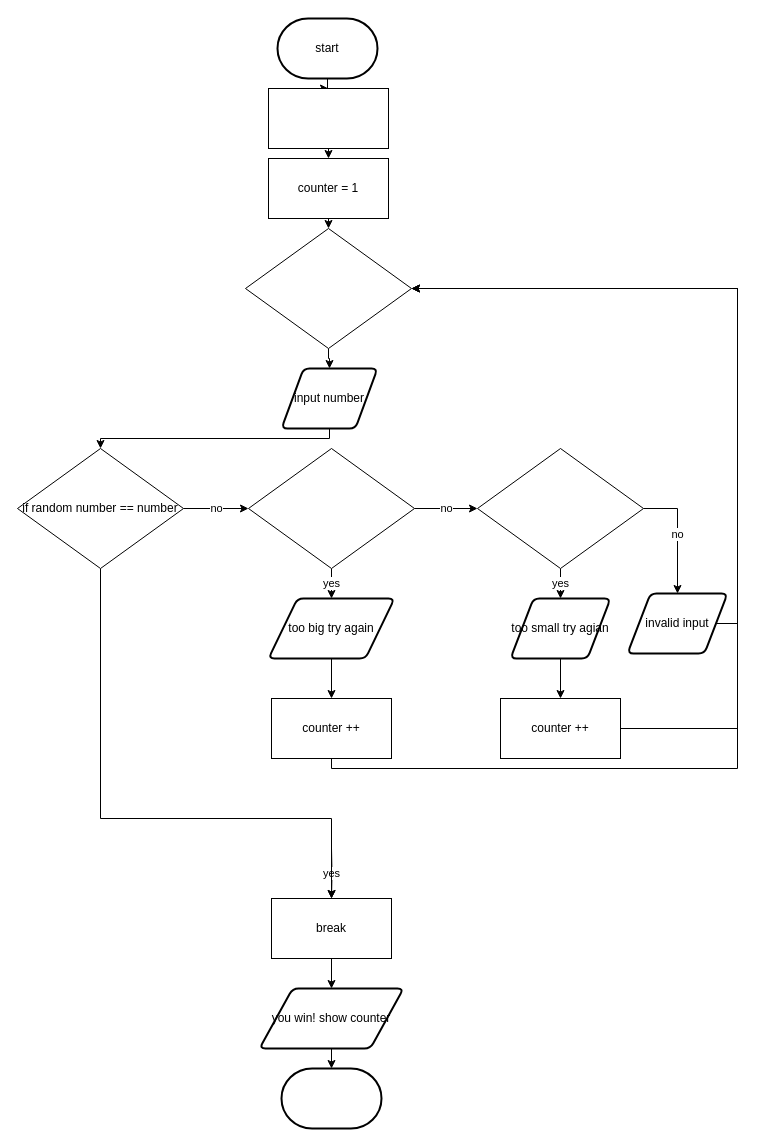
The diagram is 763 pixels wide and 1146 high, and some of its shapes have lost their labels. Here are the shapes that lost their labels. From the top down, the centre of each, then its label:
(x=328, y=118): generate random number
(x=328, y=288): while (True)
(x=331, y=508): if random number => number
(x=560, y=508): if random number =< number
(x=331, y=1098): end
